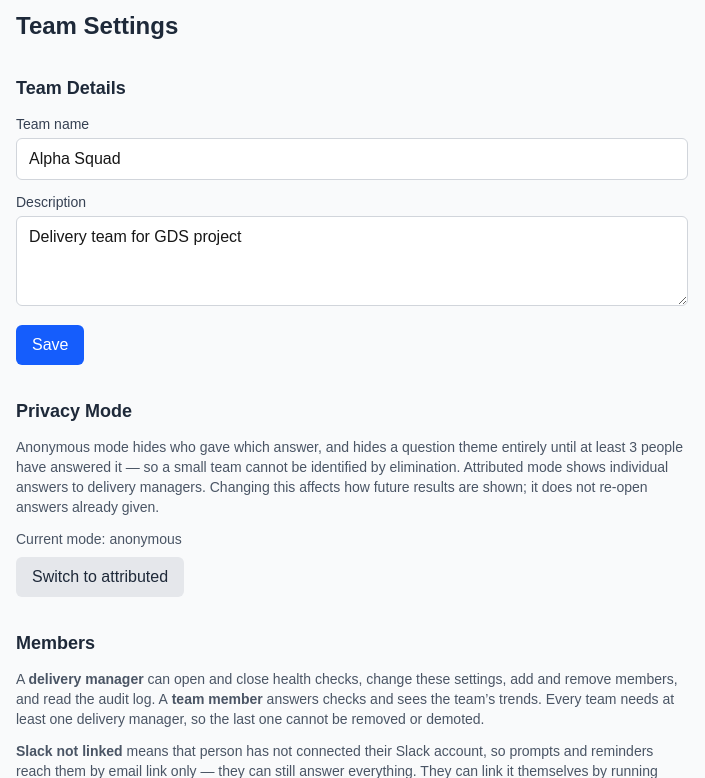
Test: Team Settings Page › Privacy Mode Section (Req 14.4) › shows confirmation dialog when switching to attributed
Expected: the text "Current mode: anonymous" is shown, left=16, top=531, right=182, bottom=547
Click the button "Switch to attributed" at (100, 577), box left=16, top=557, right=184, bottom=597
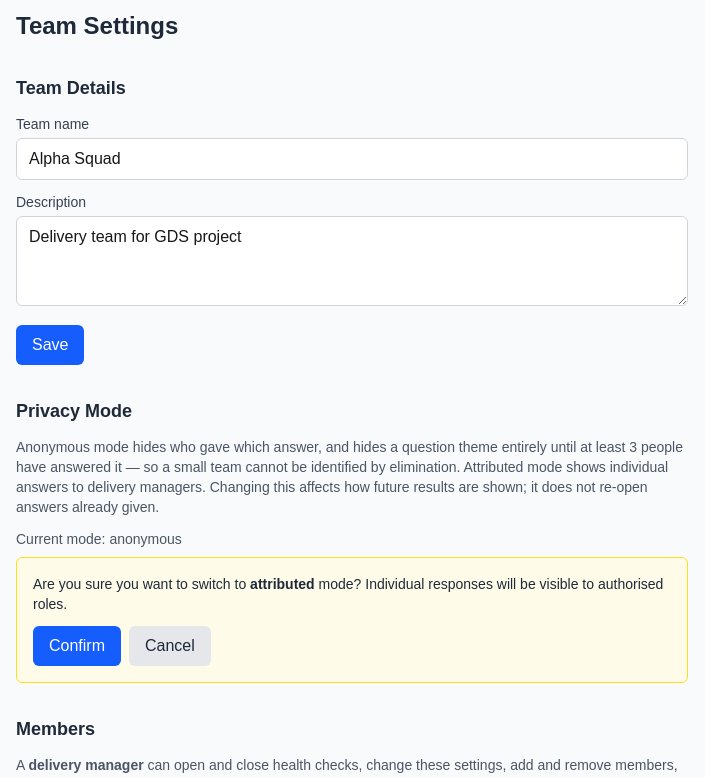
Expected: the text "Are you sure" is shown, left=33, top=576, right=250, bottom=592
